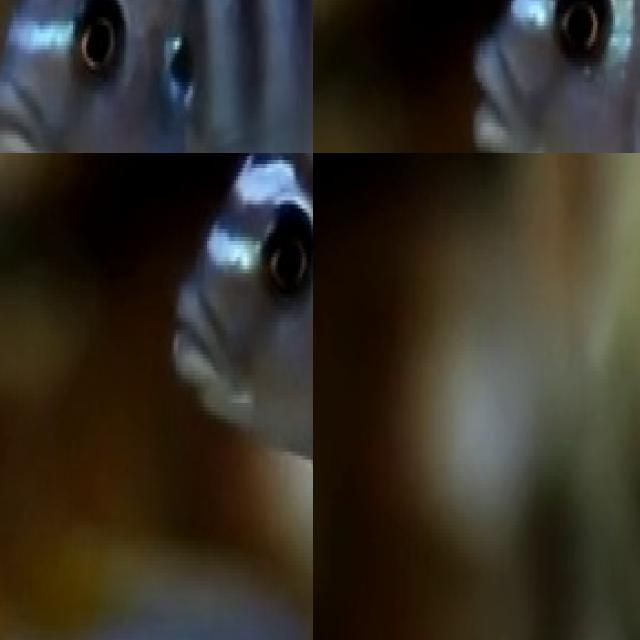fish: (0, 0, 313, 153), (0, 569, 313, 640)
